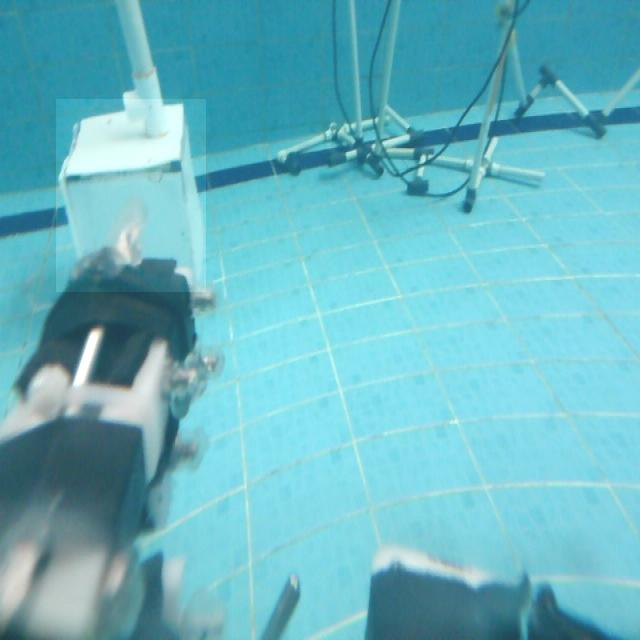Cube: (56, 99, 206, 292)
